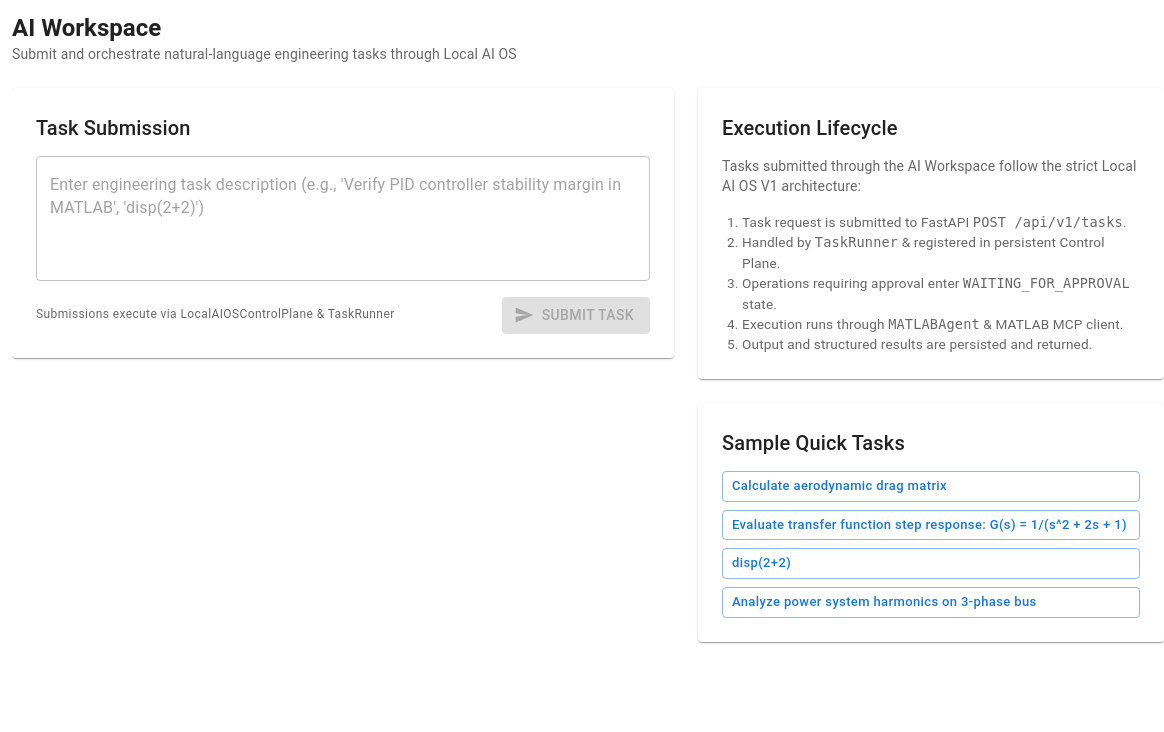
Scenario: AI Workspace Page › submits task and displays inspector with submission ID
This screenshot has width=1164, height=732.
Replace the text in the text box with placeholder "Enter engineering task description" with "disp(2+2)": [343, 218] box [50, 172, 636, 264]
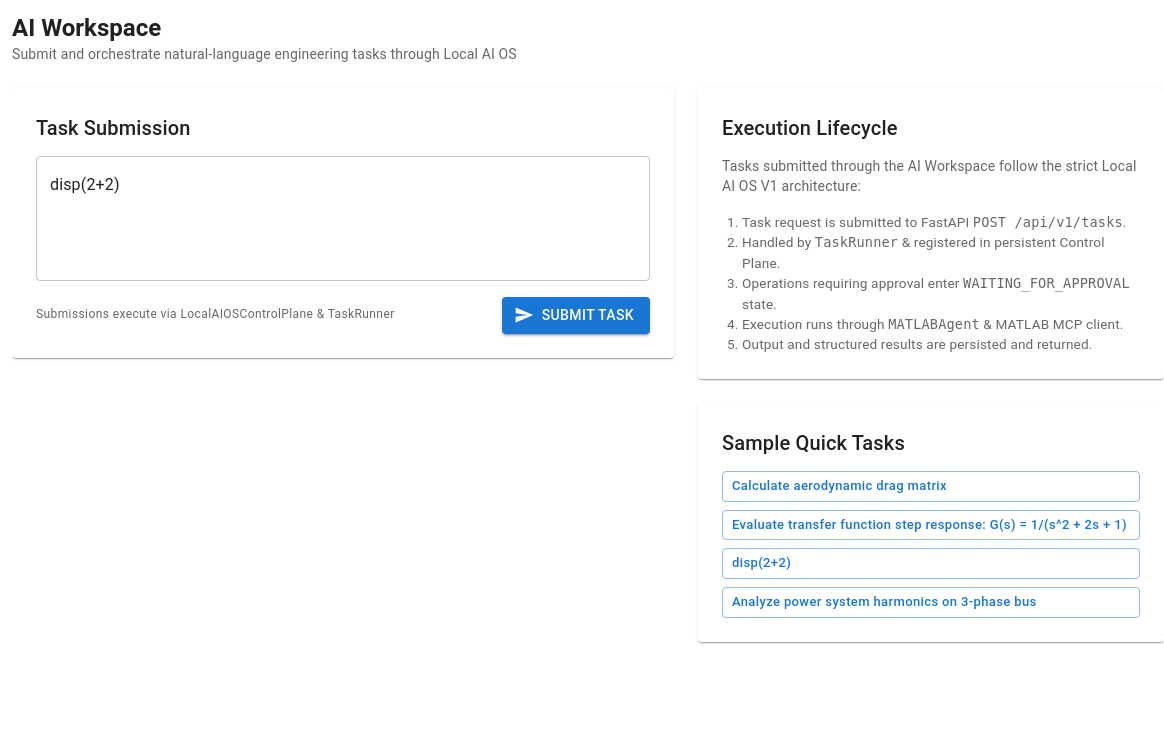
Click the button "Submit Task": [576, 315] box [502, 297, 650, 334]
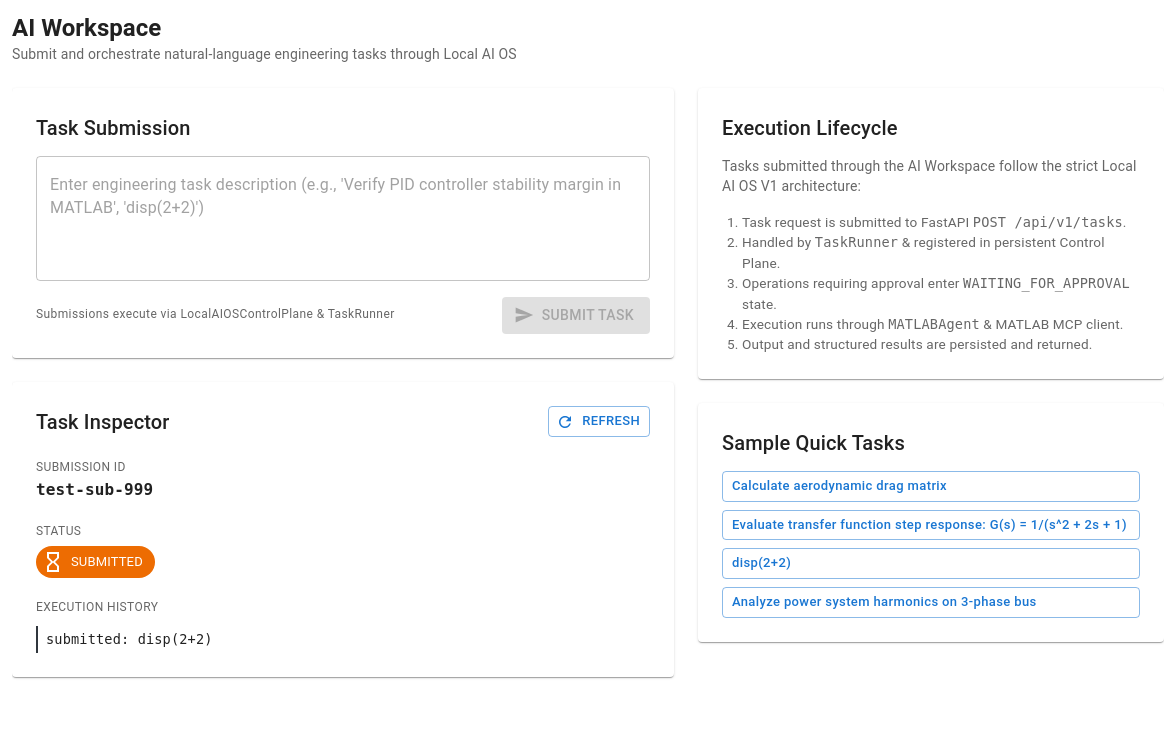
expect the text "test-sub-999" is shown: met, box [36, 480, 153, 498]
expect the heading "Task Inspector" is shown: met, box [36, 406, 170, 438]
